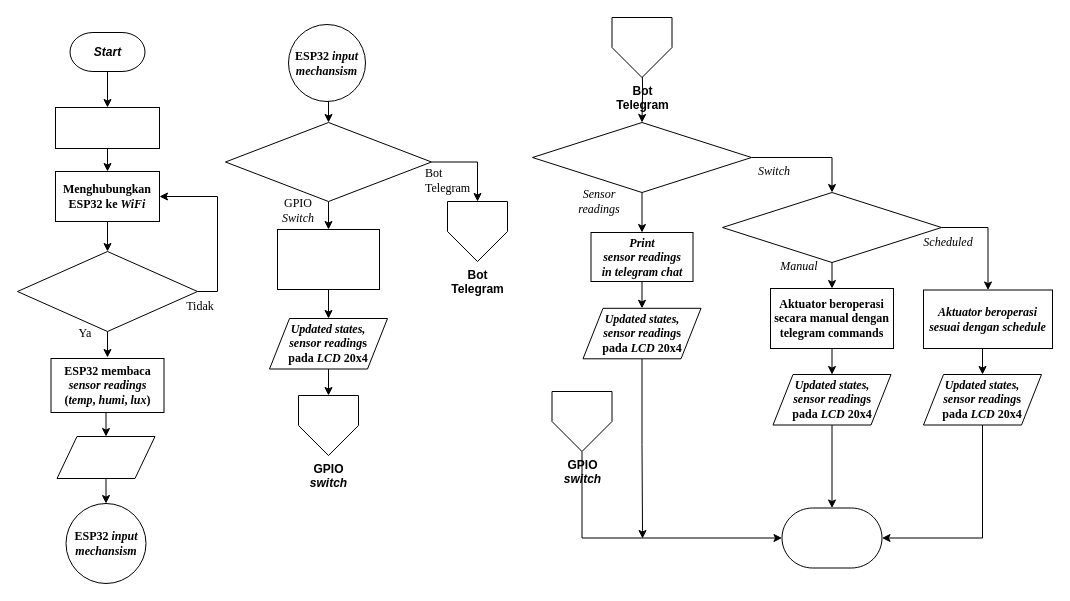
The diagram is 1070 pixels wide and 601 high, and some of its shapes have lost their labels. Each missing label, with the centre of its shape:
Aktuator beroperasi secara manual dengan toggle switch: point 328,259
bot commands? Sensor readings / Switch: point 642,157
ESP32 controlled by? GPIO Switch / Bot Telegram: point 328,162
Inisialisasi ESP32: point 107,127
Koneksi Internet ESP32 tersambung?: point 107,291
Stop: point 831,537
Switch input? Manual / Scheduled: point 832,227
User input: point 105,457
